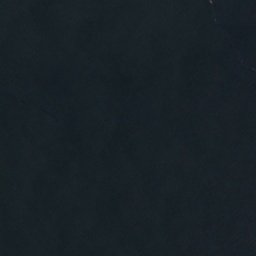Marine Debris: (251, 67, 256, 74), (208, 0, 214, 5)
